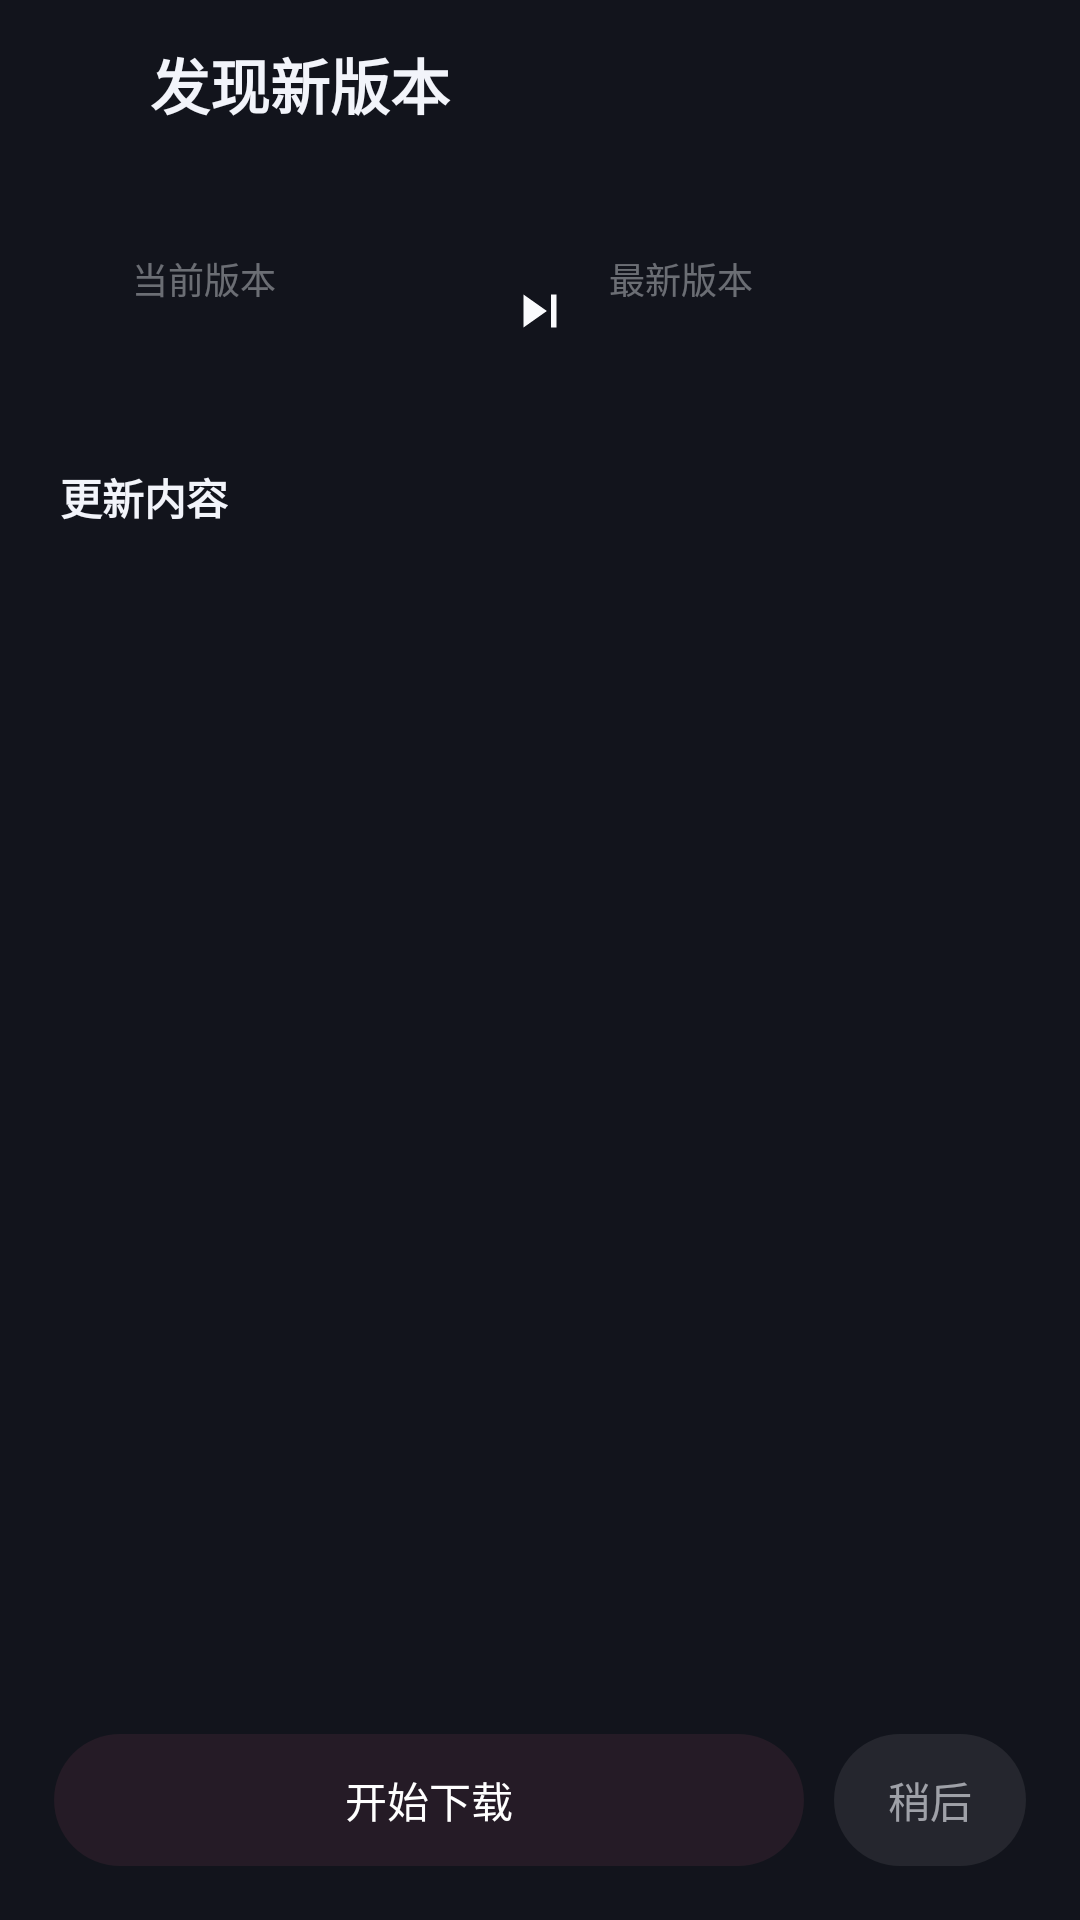

Icons on this 1080px×1920px Android screen, each with the point to tap as point (x, y):
next: point (540, 311)
